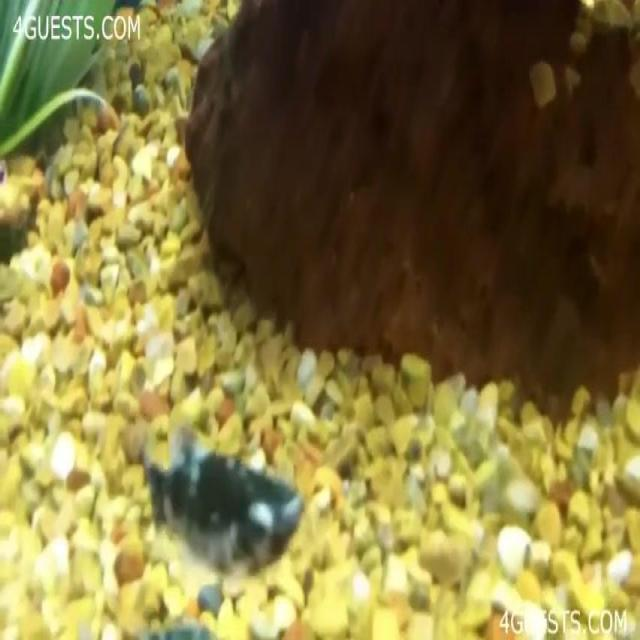PlatyFish: (137, 416, 320, 596)
